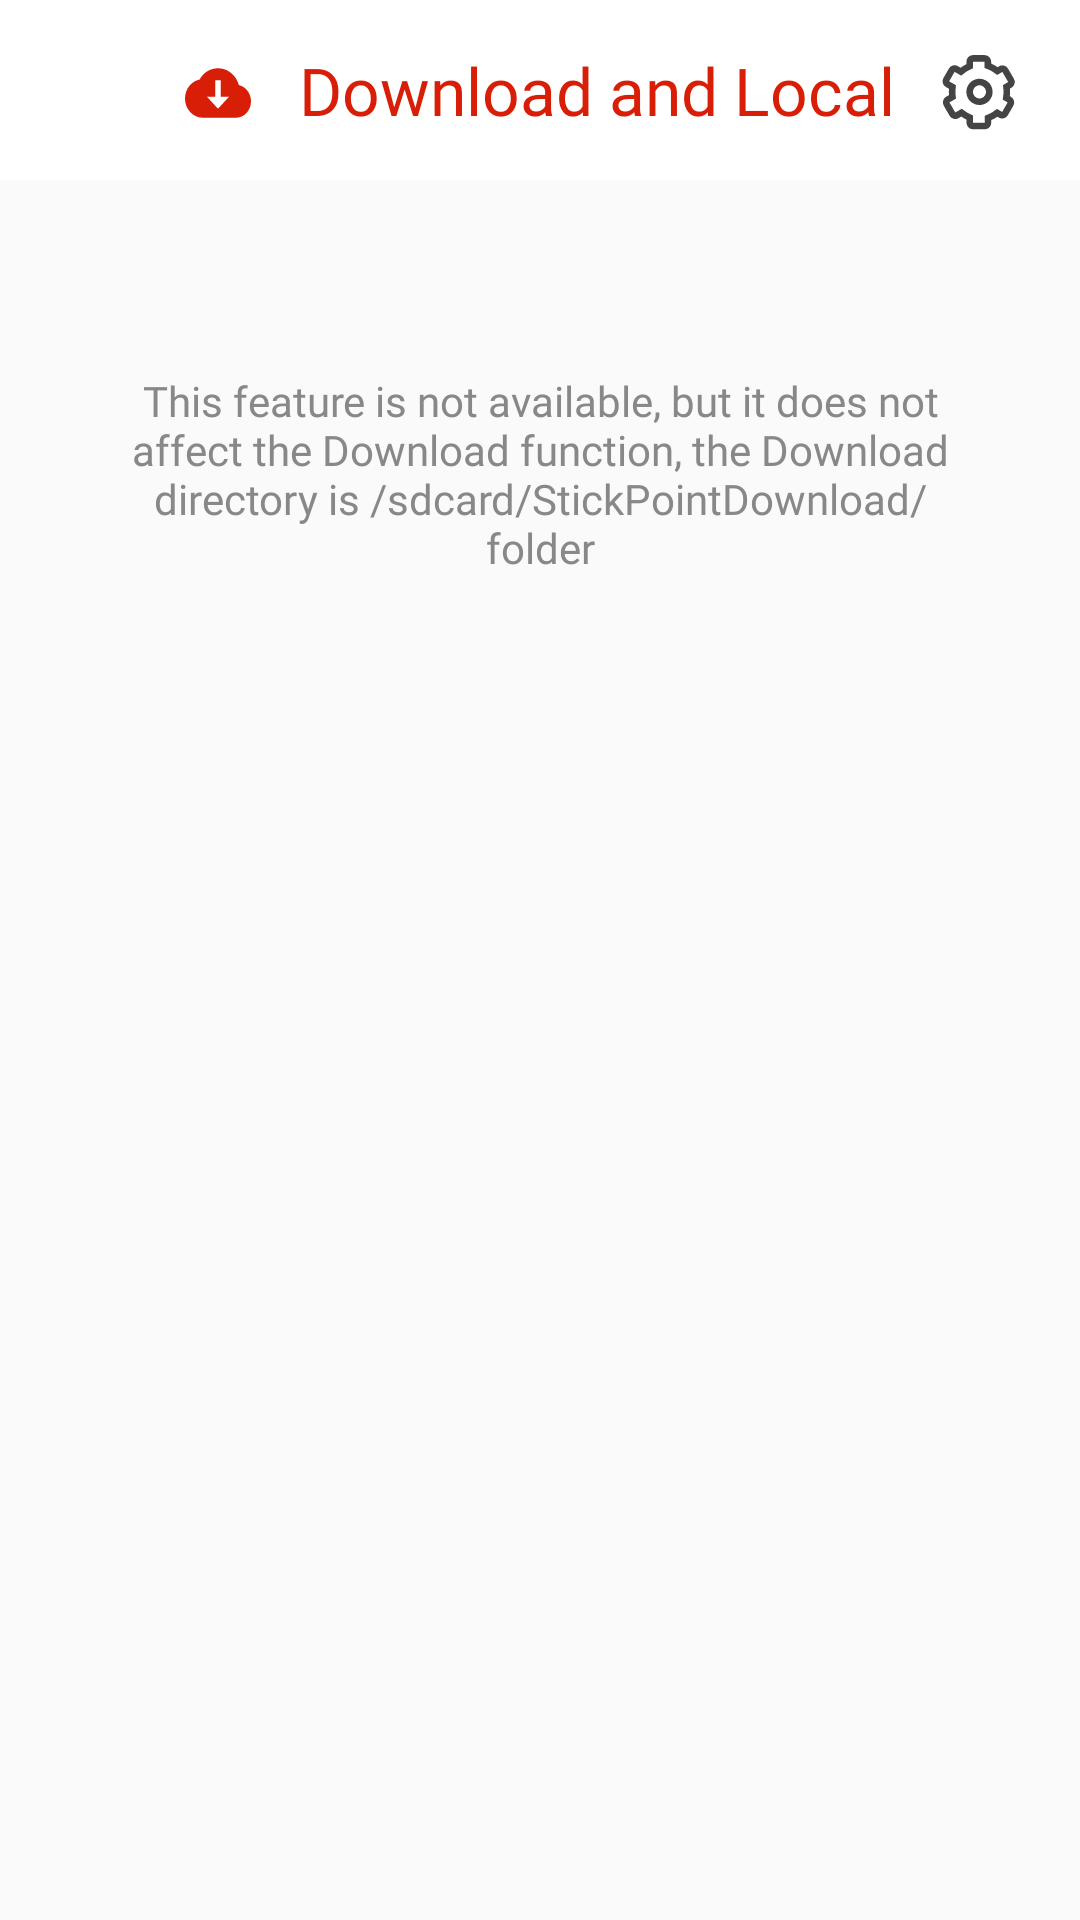

Point at icon controls on the screen. Image size 1080*1920, points as point (x, y).
download checked: point (218, 93)
Setting: point (978, 92)
